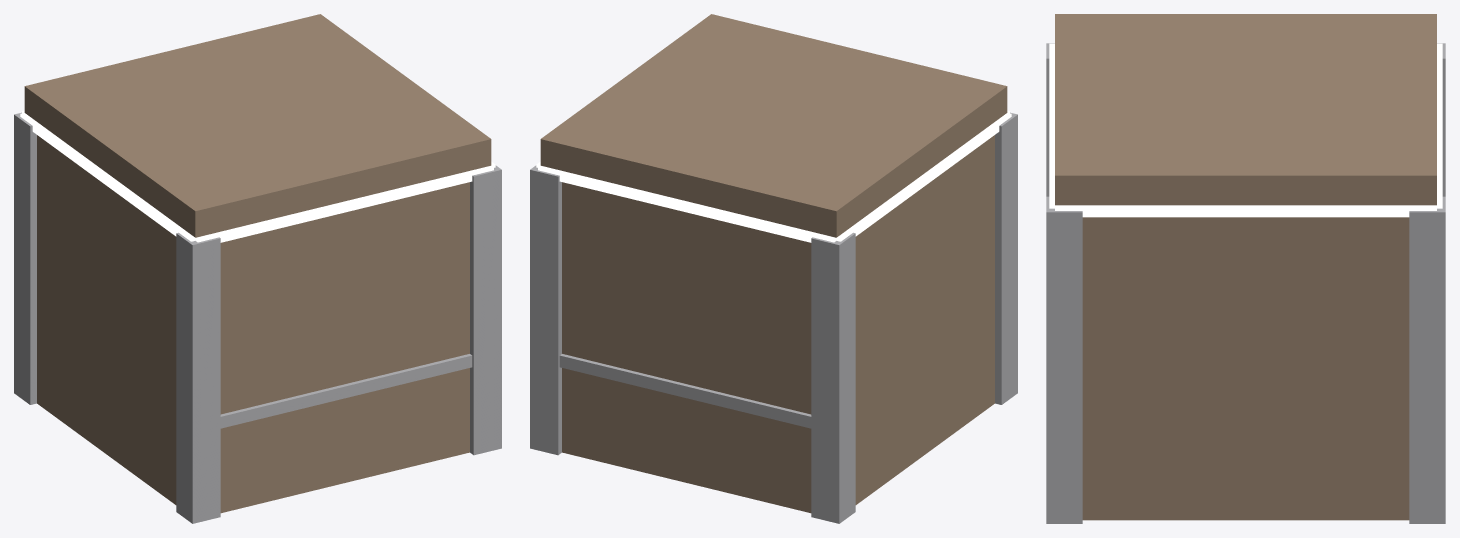
File: crate_uncommon.glb
The picture shows the model from 3 angles, left to right: view 1: azimuth 30°, elevation 25°; view 2: azimuth 150°, elevation 25°; view 3: azimuth 270°, elevation 25°; orthographic projection. The views are drawn at different scales.
Visible parts, largest first — view 1: crate_body, lid_q3, lid_q4, lid_q1, lid_q2, seam_back, seam_left; view 2: crate_body, lid_q1, lid_q2, lid_q3, lid_q4, seam_front, seam_left; view 3: crate_body, lid_q2, lid_q4, lid_q1, lid_q3, seam_right, seam_back, seam_front.
Boxes of the visible parts, x1,y1,x2,y2 form: crate_body: (14,112,501,523); lid_q3: (110,112,343,237); lid_q4: (258,76,491,201); lid_q1: (24,50,257,174); lid_q2: (173,14,405,112); seam_back: (195,165,493,242); seam_left: (20,113,195,241); crate_body: (530,112,1017,523); lid_q1: (688,112,921,237); lid_q2: (540,76,773,201); lid_q3: (774,50,1007,174); lid_q4: (626,14,858,112); seam_front: (538,165,836,242); seam_left: (836,113,1011,241); crate_body: (1046,43,1445,523); lid_q2: (1246,94,1436,205); lid_q4: (1055,94,1245,205); lid_q1: (1246,14,1436,94); lid_q3: (1055,14,1245,94); seam_right: (1055,205,1436,217); seam_back: (1049,43,1054,208); seam_front: (1437,43,1442,208).
Bounding box in the file's own units: 1.1 × 1.04 × 1.1.
